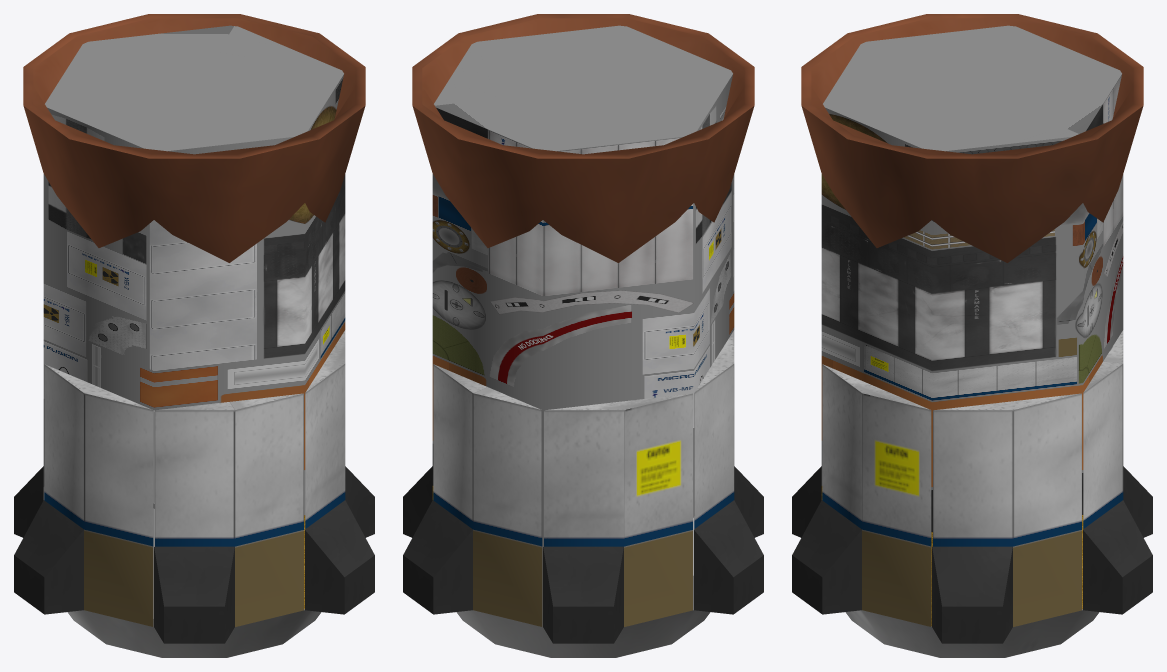
File: ArcJetRCS.FBX
3 renders of one model, left to right at view 1: azimuth 30°, elevation 25°; view 2: azimuth 150°, elevation 25°; view 3: azimuth 270°, elevation 25°, orthographic.
Parts seen in each view (by area): view 1: Cylinder001, Cylinder002, Cylinder003; view 2: Cylinder001, Cylinder002, Cylinder003; view 3: Cylinder001, Cylinder002, Cylinder003.
Boxes of the visible parts, x1=… form: Cylinder001: x1=14, y1=330, x2=374, y2=657; Cylinder002: x1=43, y1=25, x2=345, y2=626; Cylinder003: x1=23, y1=14, x2=365, y2=262; Cylinder001: x1=403, y1=330, x2=763, y2=657; Cylinder002: x1=432, y1=25, x2=734, y2=626; Cylinder003: x1=412, y1=14, x2=754, y2=262; Cylinder001: x1=792, y1=330, x2=1152, y2=657; Cylinder002: x1=821, y1=25, x2=1123, y2=626; Cylinder003: x1=801, y1=14, x2=1143, y2=262.
Size of the model in its own units: 0.3814 by 0.3607 by 0.5743.
Materials: 1 (1 with a texture image).
